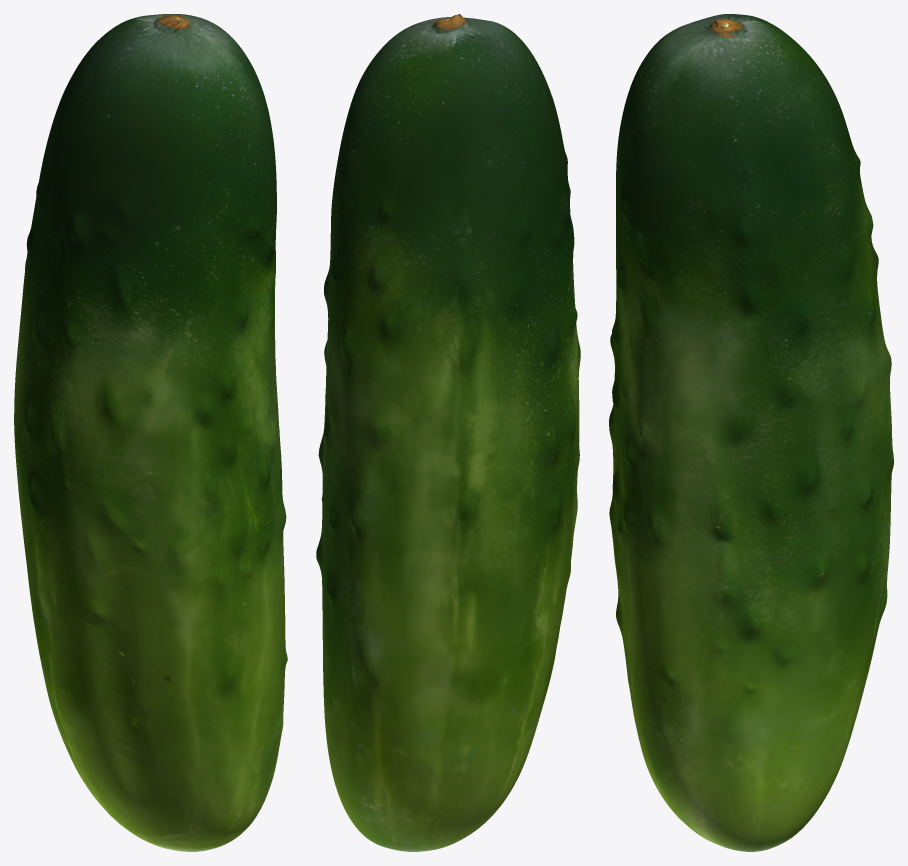
Rendered from pickle-model.glb.
3 views of the same model, side by side, from view 1: azimuth 30°, elevation 25°; view 2: azimuth 150°, elevation 25°; view 3: azimuth 270°, elevation 25° (orthographic). The views are drawn at different scales.
Visible parts, largest first — view 1: node_0; view 2: node_0; view 3: node_0.
Part boxes in pixels (x1,y1,x2,y2): node_0: (14, 14, 287, 851); node_0: (316, 14, 580, 851); node_0: (609, 14, 893, 851).
Bounding box in the file's own units: 0.3455 × 1.2 × 0.3808.
1 material, 1 textured.
